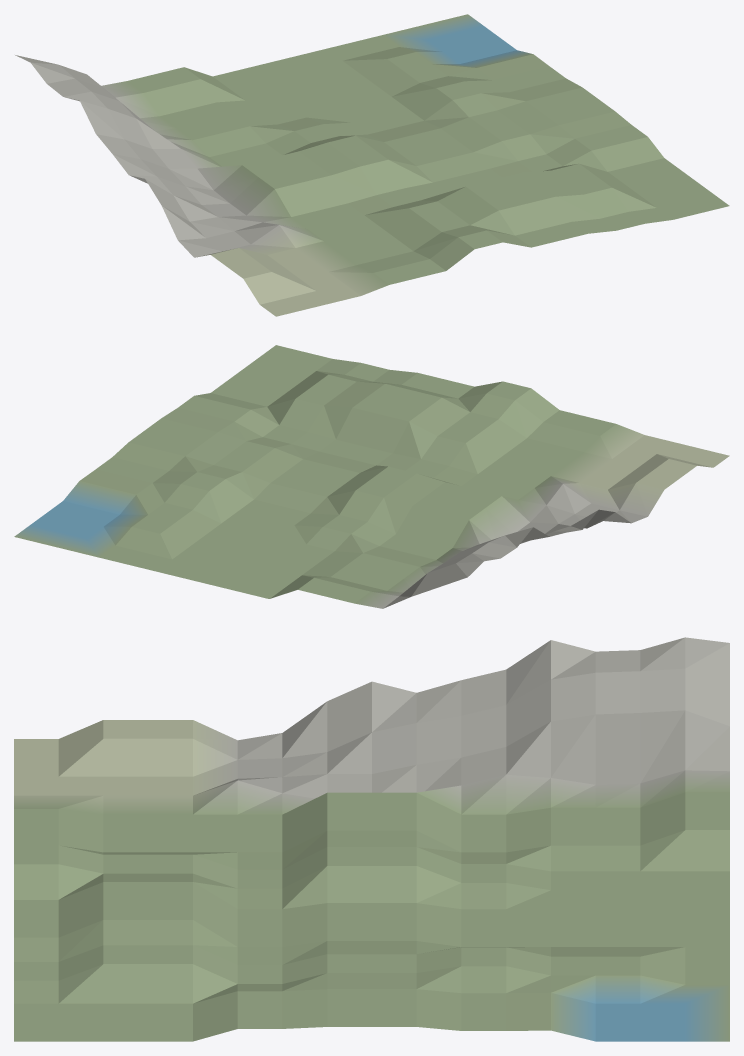
3 renders of one model, top to bottom at view 1: azimuth 30°, elevation 25°; view 2: azimuth 150°, elevation 25°; view 3: azimuth 270°, elevation 25°, orthographic. The views are drawn at different scales.
Size of the model in its own units: 32 by 5.24 by 32.
